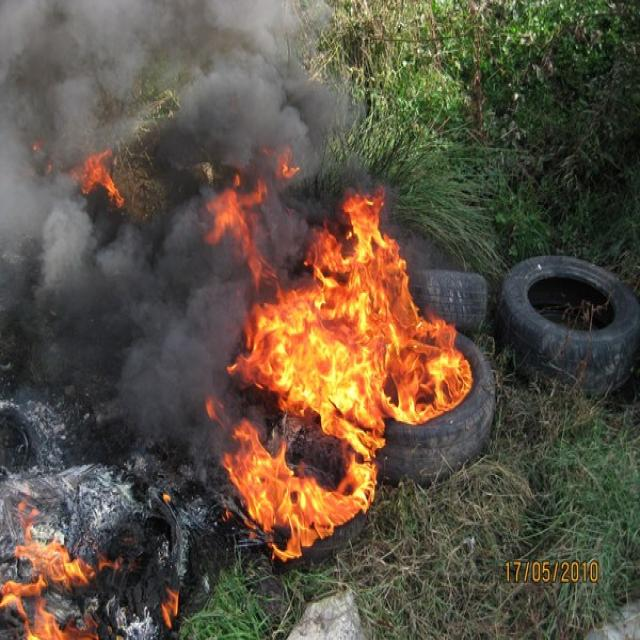fire: (226, 303, 473, 422), (221, 416, 376, 561), (1, 501, 99, 640), (206, 188, 283, 299), (343, 188, 414, 306), (305, 223, 343, 302), (83, 154, 122, 206)
